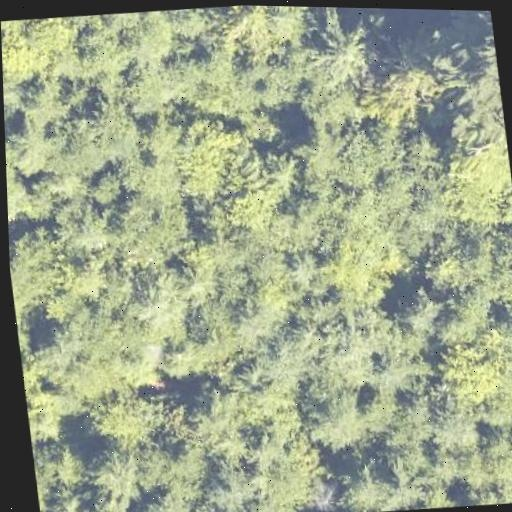tree-top: (29, 295, 150, 405), (428, 233, 512, 340), (292, 378, 391, 465), (70, 9, 173, 86), (359, 40, 444, 129), (441, 41, 506, 143), (72, 99, 154, 179), (203, 5, 320, 59), (328, 224, 401, 309), (8, 229, 74, 323), (187, 382, 255, 471), (445, 142, 512, 232), (173, 117, 243, 203), (312, 299, 391, 375), (83, 388, 166, 454), (435, 335, 508, 406), (1, 15, 77, 81), (306, 12, 376, 83), (330, 127, 396, 196), (4, 112, 67, 178), (333, 467, 420, 512), (147, 333, 219, 386), (258, 329, 317, 393), (122, 272, 184, 332), (55, 208, 122, 261), (427, 401, 485, 459), (91, 452, 149, 502), (395, 285, 446, 339), (201, 468, 262, 512), (229, 105, 289, 148), (84, 165, 131, 217), (261, 151, 308, 201), (175, 261, 223, 309), (284, 246, 328, 294), (404, 128, 445, 165), (41, 485, 91, 512)
